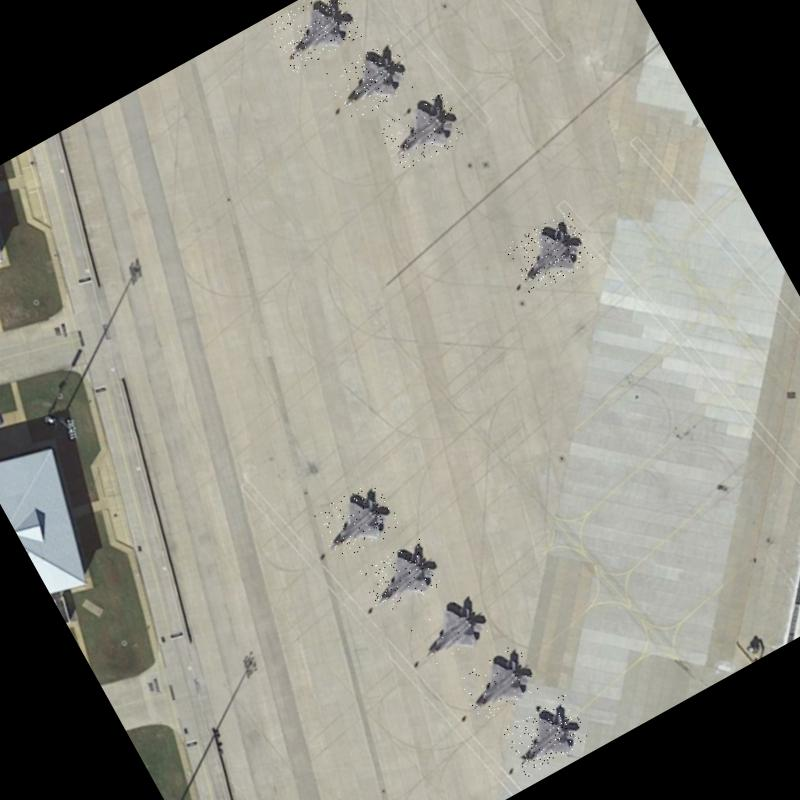A15: (373, 89, 468, 175), (504, 209, 596, 296), (310, 478, 403, 564), (324, 38, 416, 123), (500, 693, 591, 777), (406, 588, 496, 670), (452, 642, 542, 724), (266, 0, 363, 73), (357, 537, 445, 617)
